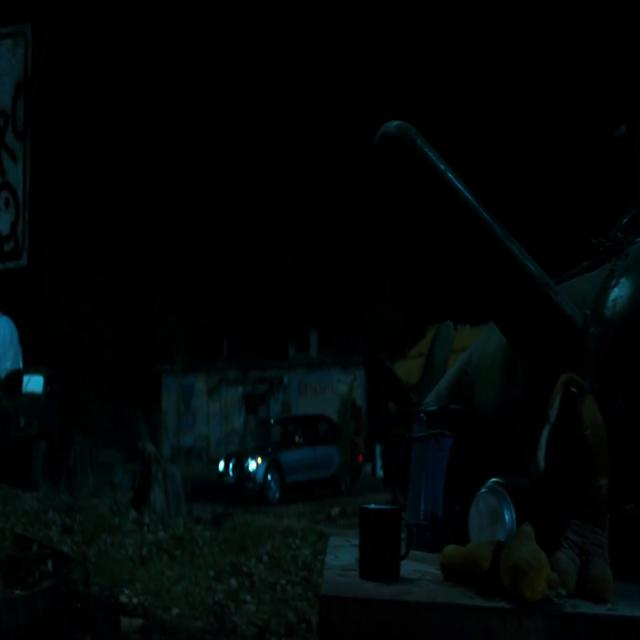Cup: (350, 507, 413, 597)
car: (197, 399, 378, 551)
